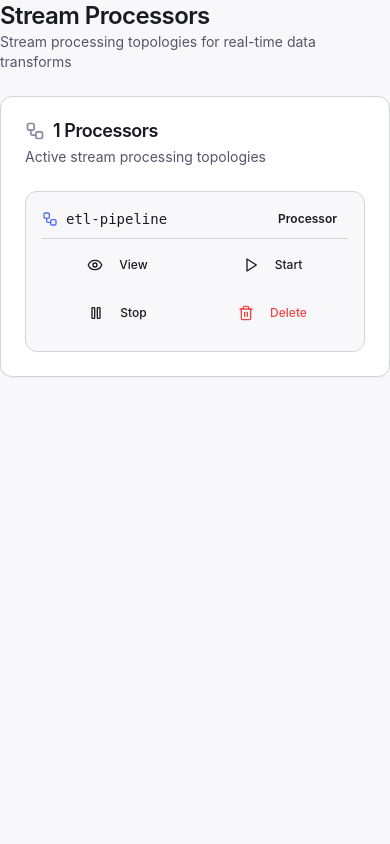
Scenario: ProcessorsPage › shows processor detail when View is clicked
The image size is (390, 844).
Check: the text "etl-pipeline" is shown, box x1=66 y1=209 x2=167 y2=229
# Click View button
Click the button with aria-label "View processor": (118, 265) x1=42 y1=243 x2=193 y2=287
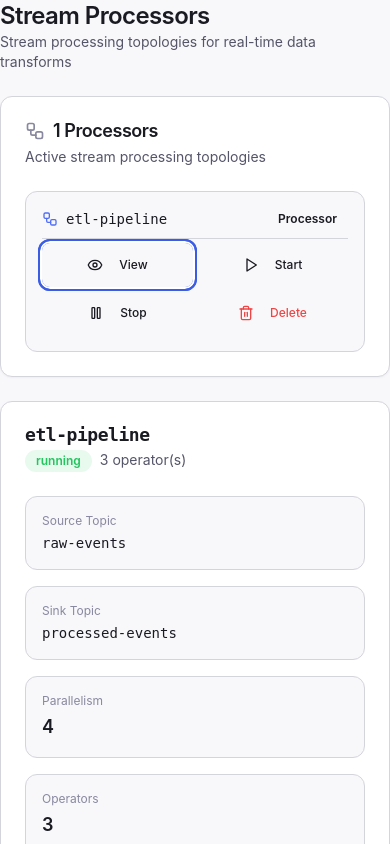
Check: the text "raw-events" is shown, box x1=42 y1=535 x2=126 y2=551
Check: the text "processed-events" is shown, box x1=42 y1=625 x2=177 y2=641
Check: the text "running" is shown, box x1=25 y1=450 x2=92 y2=472
